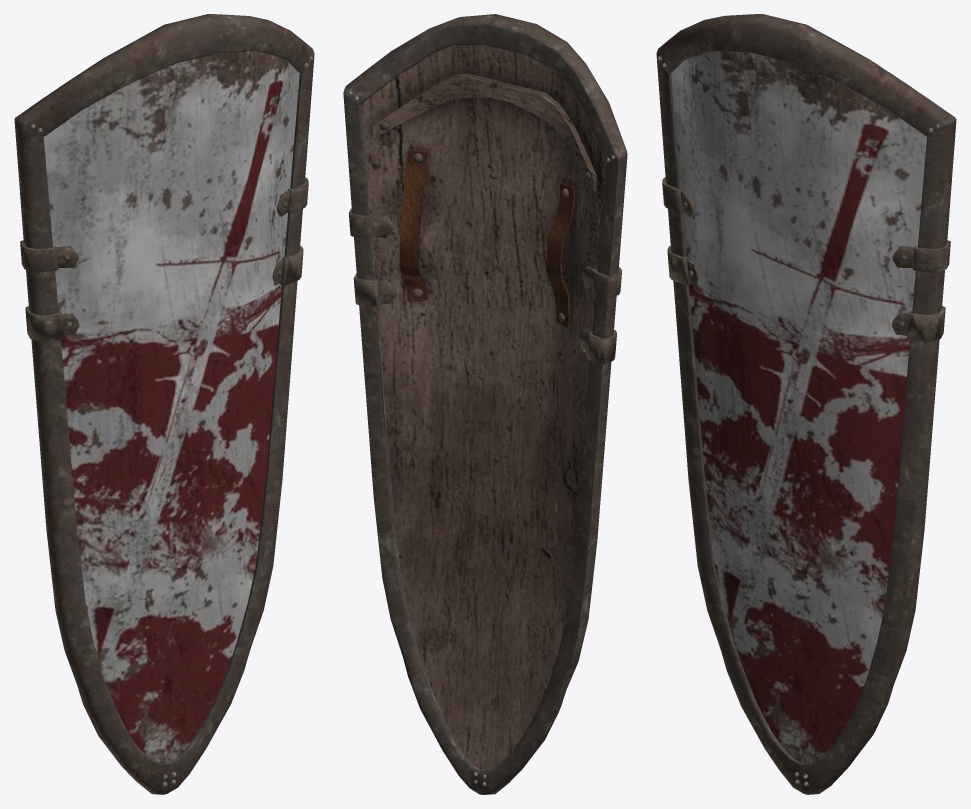
The model's file is kite_shield.glb.
3 views of the same model, side by side, from view 1: azimuth 30°, elevation 25°; view 2: azimuth 150°, elevation 25°; view 3: azimuth 330°, elevation 25° (orthographic). The views are drawn at different scales.
Visible parts, largest first — view 1: kite_shield_body, kite_shield_metal_trim, kite_shield_clamps_and_bolts; view 2: kite_shield_body, kite_shield_metal_trim, kite_shield_clamps_and_bolts; view 3: kite_shield_body, kite_shield_metal_trim, kite_shield_clamps_and_bolts.
Part boxes in pixels (x1,y1,x2,y2): kite_shield_body: (43, 51, 300, 763); kite_shield_metal_trim: (14, 14, 314, 794); kite_shield_clamps_and_bolts: (20, 56, 312, 786); kite_shield_body: (361, 45, 606, 770); kite_shield_metal_trim: (343, 14, 627, 794); kite_shield_clamps_and_bolts: (348, 91, 621, 786); kite_shield_body: (671, 51, 927, 763); kite_shield_metal_trim: (656, 14, 956, 794); kite_shield_clamps_and_bolts: (658, 56, 950, 786).
Bounding box in the file's own units: 0.5432 × 1.39 × 0.1347.
Materials: 2 (2 with a texture image).
